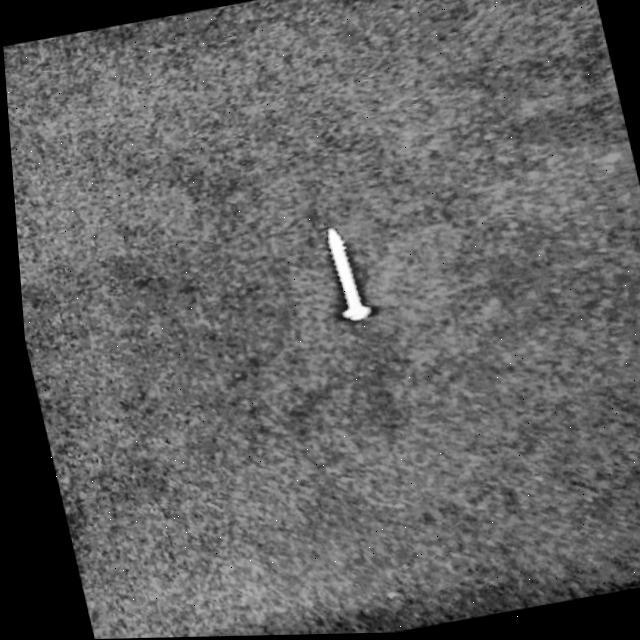Sheet metal screw: (316, 225, 368, 325)
